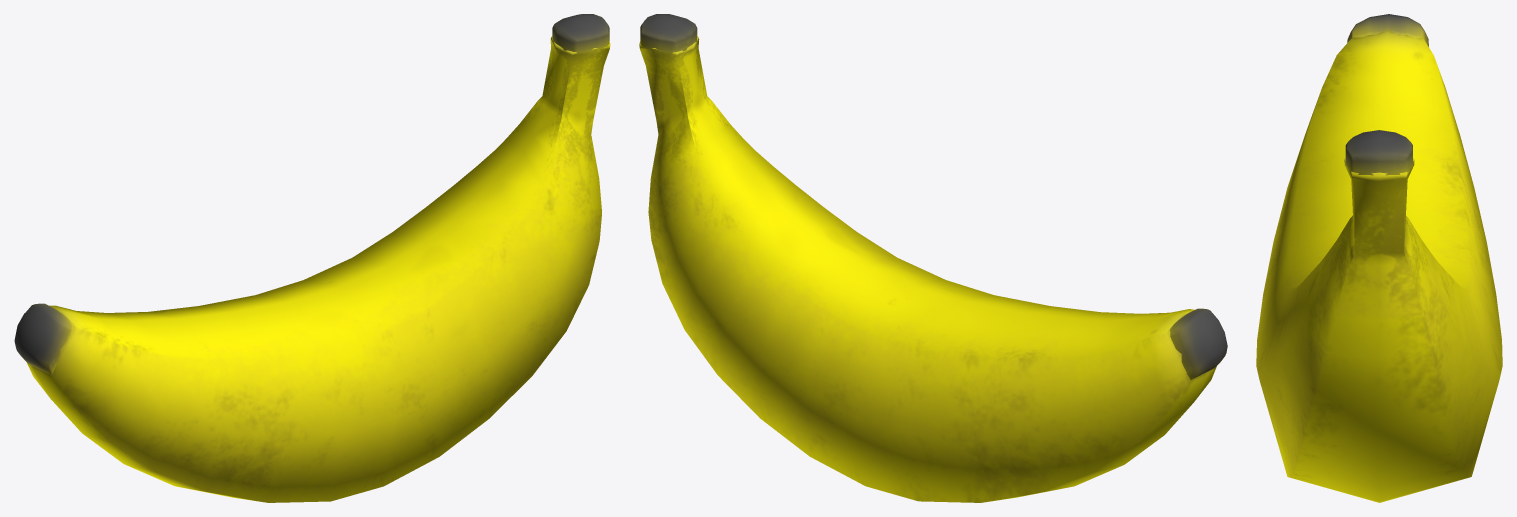
Rendered from Banana.fbx.
3 views of the same model, side by side, from view 1: azimuth 30°, elevation 25°; view 2: azimuth 150°, elevation 25°; view 3: azimuth 270°, elevation 25° (orthographic). The views are drawn at different scales.
Parts seen in each view (by area): view 1: Banana; view 2: Banana; view 3: Banana.
Part boxes in pixels (<box>): Banana: <box>14,14,610,502</box>; Banana: <box>639,14,1227,502</box>; Banana: <box>1256,14,1502,502</box>.
Size of the model in its own units: 3.59 by 2.41 by 1.08.
